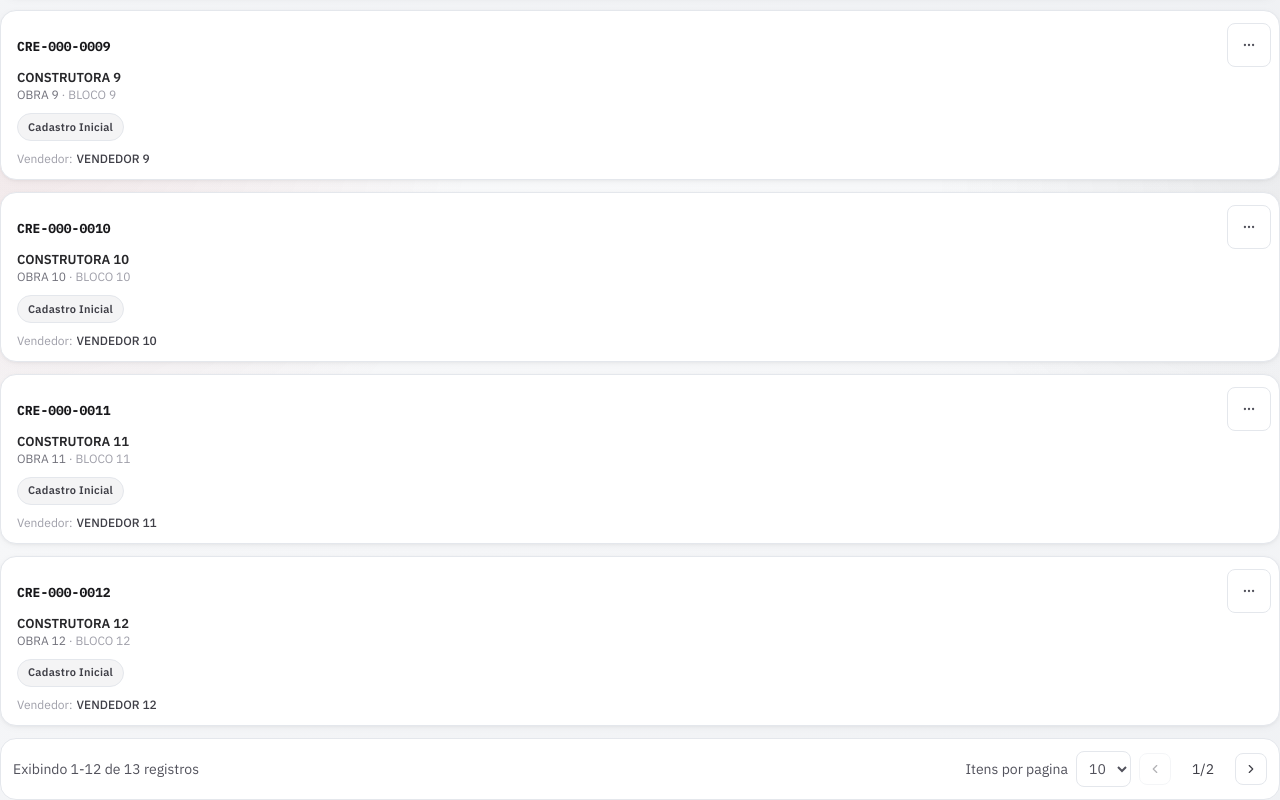
Test: paginação compartilhada › itens por página muda a quantidade de cards e volta à página 1
The image size is (1280, 800).
(page scrolled)
Click the button named "Proxima pagina": (1251, 768) [1235,752,1267,784]
(page scrolled)
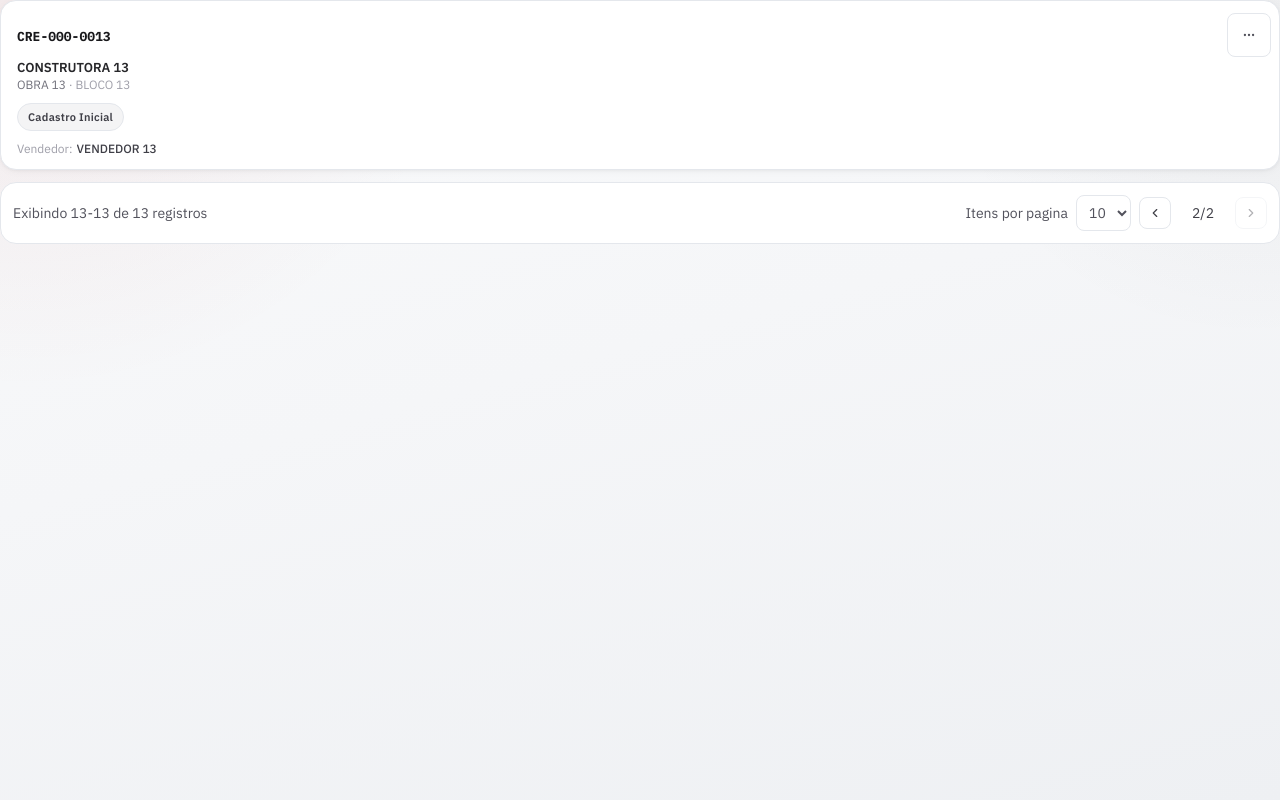
Select "10" in the dropdown: (1104, 213) [1076,195,1131,231]
(page scrolled)
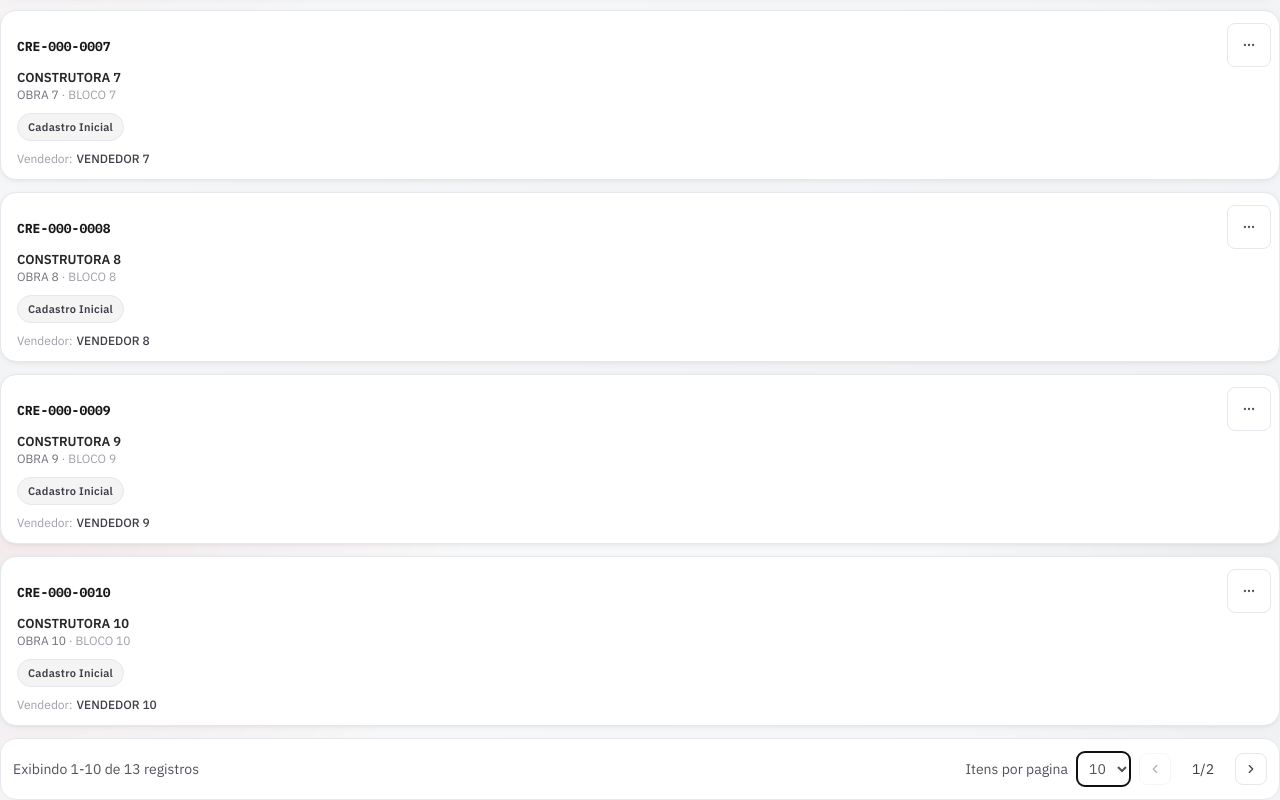
Expected: the text "1/2" is shown, [1192,760,1214,778]
